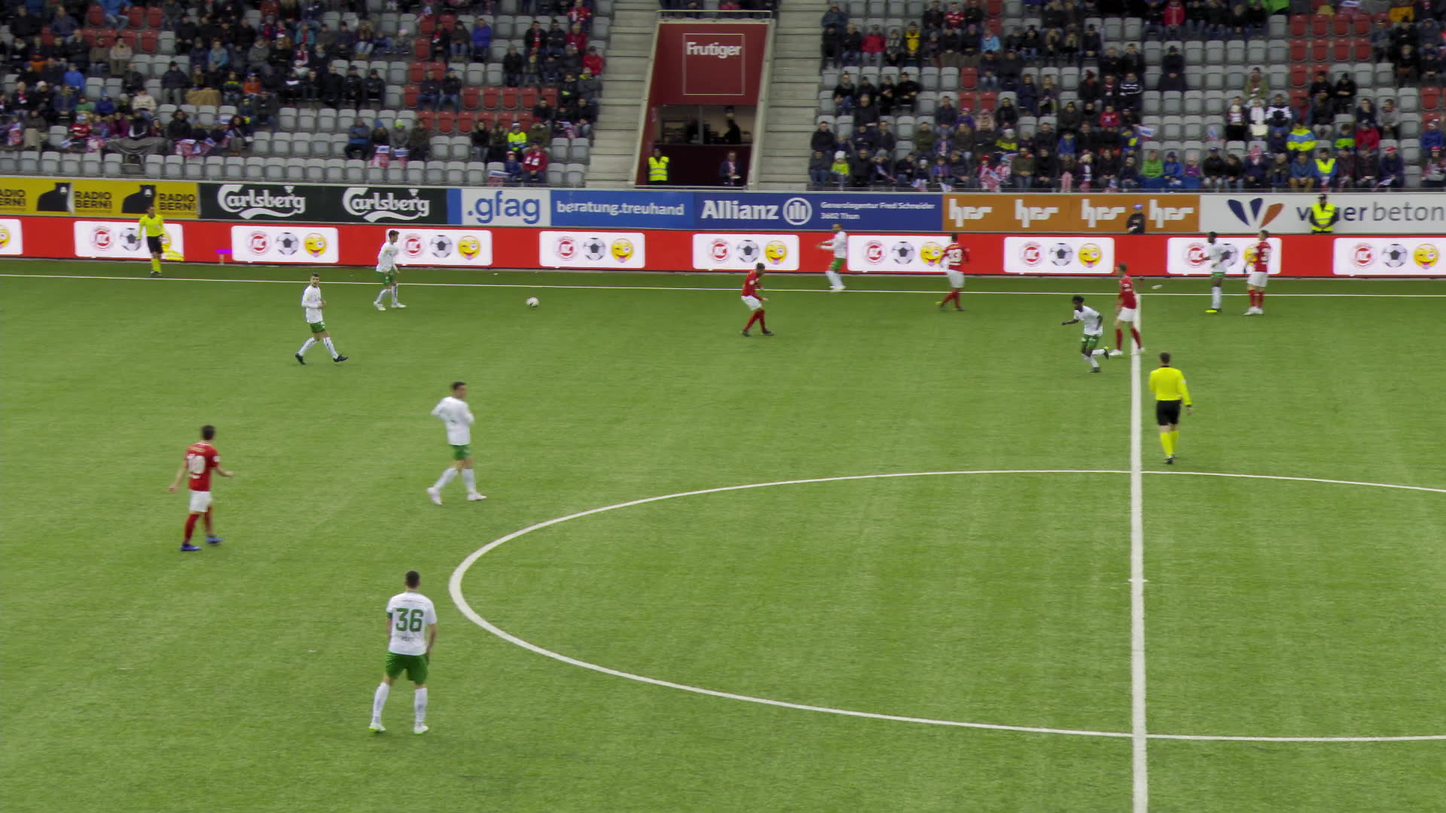ball: (530, 294, 546, 306)
player: (365, 568, 438, 735), (161, 423, 226, 553), (419, 377, 484, 504), (297, 273, 346, 364), (1060, 294, 1110, 373), (368, 231, 410, 311), (731, 263, 773, 336), (1106, 260, 1138, 352), (1191, 230, 1225, 313), (926, 234, 962, 312), (1236, 229, 1265, 316), (808, 221, 842, 292)
referee: (1142, 351, 1186, 466), (130, 203, 182, 278)
